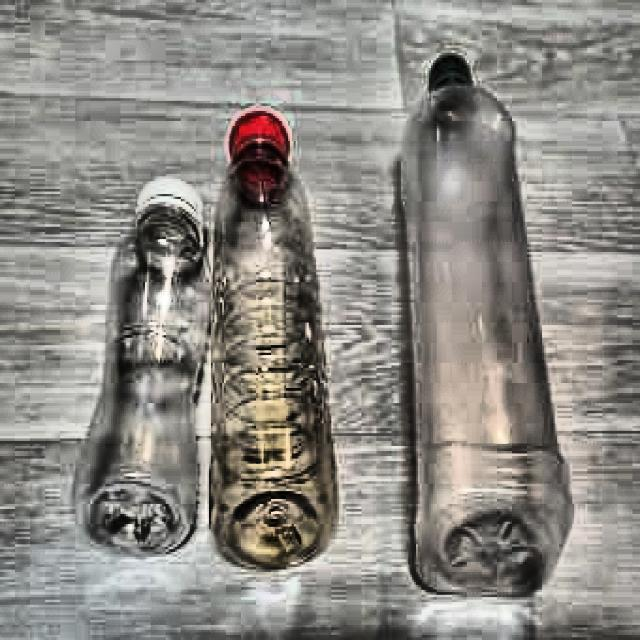Bottles: (392, 58, 582, 602), (202, 92, 352, 594), (91, 140, 205, 574)
